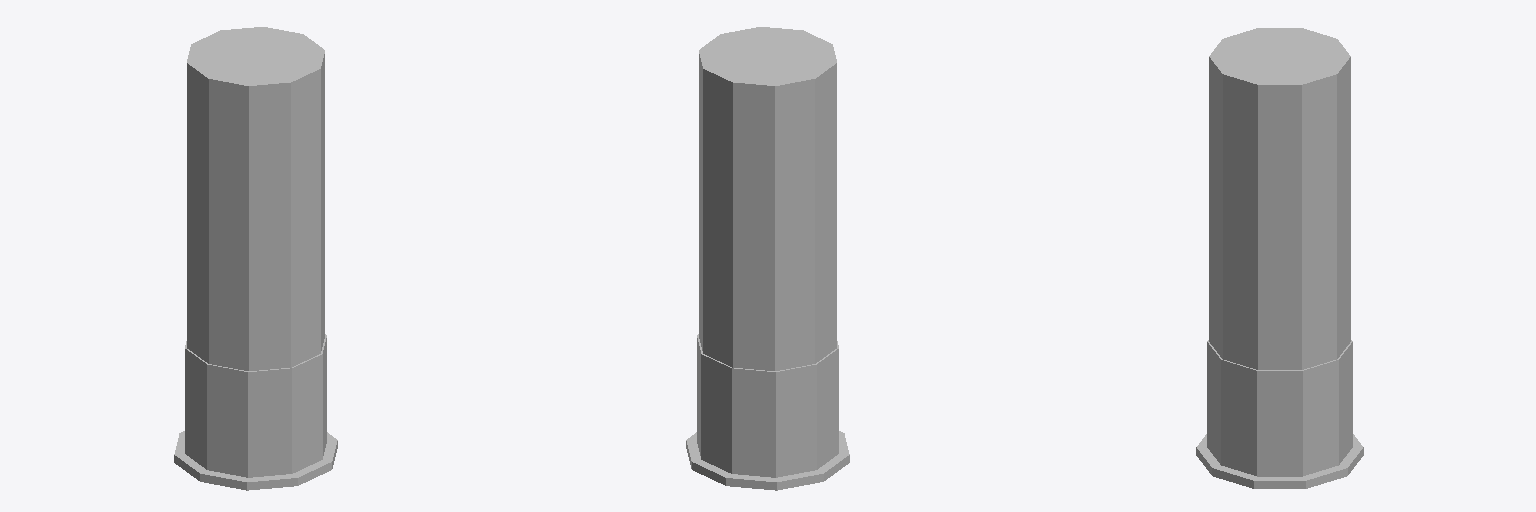
File: 12ga_shot.obj
3 views of the same model, side by side, from view 1: azimuth 30°, elevation 25°; view 2: azimuth 150°, elevation 25°; view 3: azimuth 270°, elevation 25° (orthographic).
Parts seen in each view (by area): view 1: Cylinder.001, Cylinder; view 2: Cylinder.001, Cylinder; view 3: Cylinder.001, Cylinder.
Part boxes in pixels (x1,y1,x2,y2): Cylinder.001: (187, 27, 324, 370); Cylinder: (174, 334, 337, 490); Cylinder.001: (699, 27, 836, 370); Cylinder: (686, 334, 849, 490); Cylinder.001: (1209, 28, 1350, 369); Cylinder: (1196, 340, 1363, 488).
Size of the model in its own units: 0.0206 by 0.0571 by 0.0217.